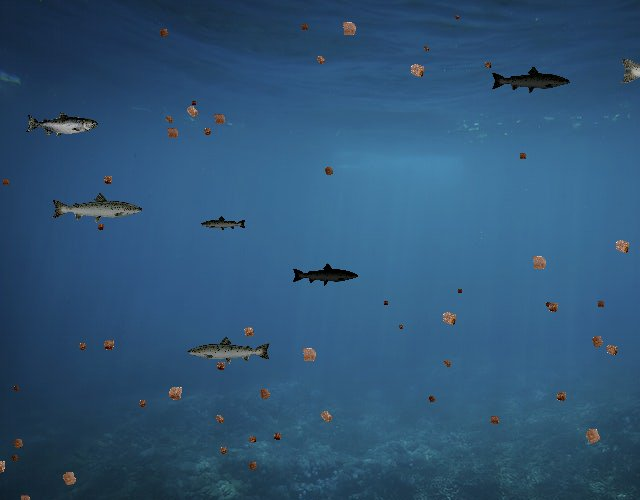Fish: (51, 192, 145, 226), (186, 335, 272, 366), (490, 66, 571, 95), (26, 111, 98, 138), (291, 263, 359, 287), (200, 216, 247, 233)
Pellet: (161, 379, 189, 407), (180, 99, 205, 124), (314, 404, 338, 428), (237, 321, 260, 344), (8, 434, 29, 455), (161, 111, 178, 128), (74, 338, 90, 354), (480, 58, 494, 72), (542, 298, 555, 311)
